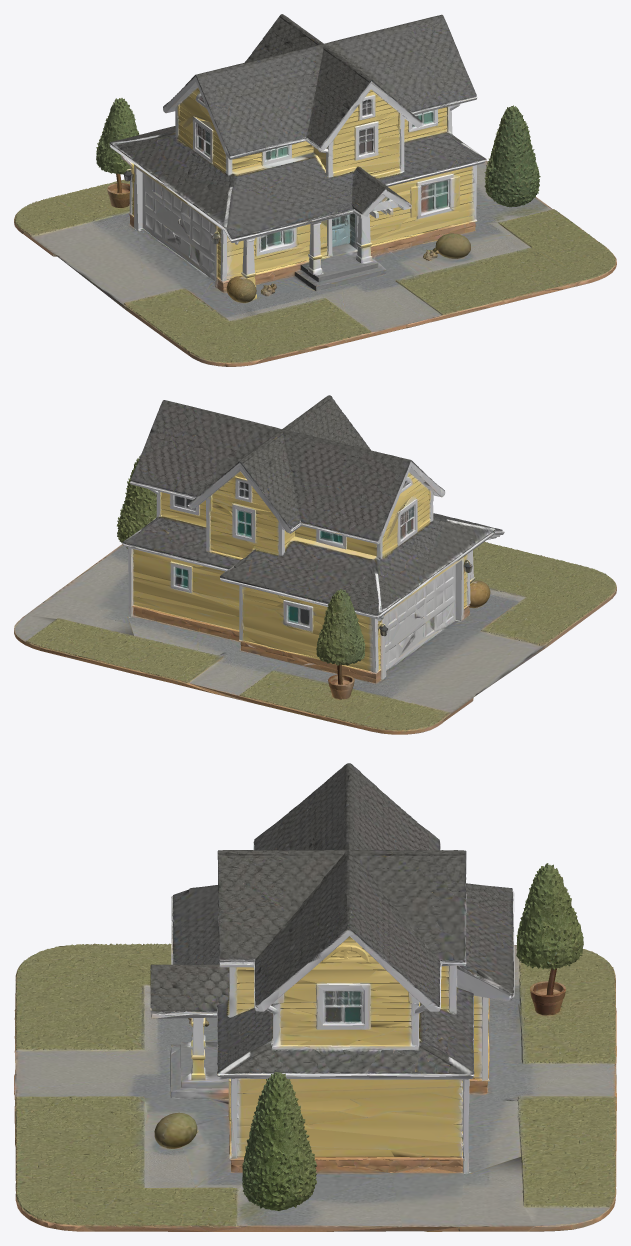
The model's file is house-neighbour.glb.
3 views of the same model, one above another, from view 1: azimuth 30°, elevation 25°; view 2: azimuth 150°, elevation 25°; view 3: azimuth 270°, elevation 25° (orthographic). The views are drawn at different scales.
Bounding box in the file's own units: 1.9 × 0.8045 × 1.72.
1 material, 1 textured.
